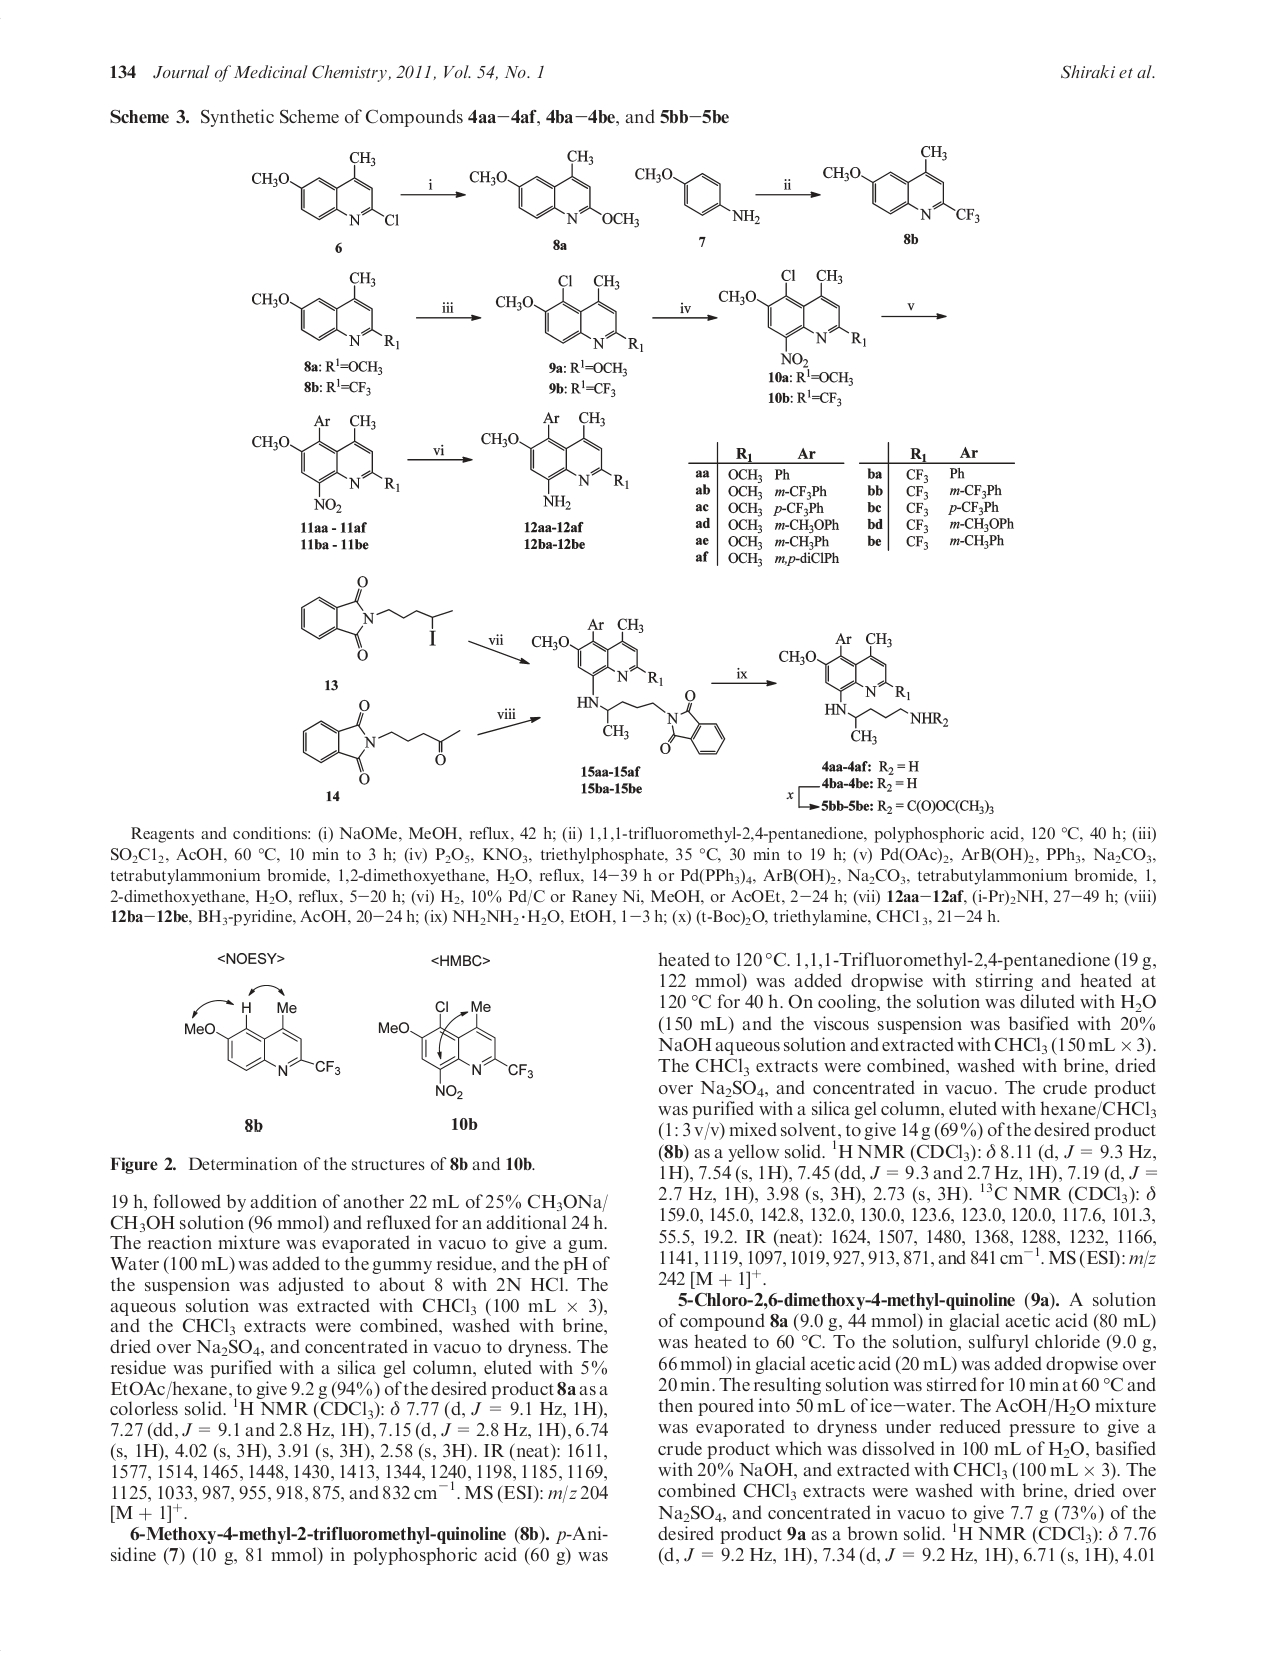exist_molecular: (529, 616, 727, 759), (777, 630, 953, 747), (378, 997, 535, 1102), (249, 410, 402, 513), (715, 266, 868, 368), (479, 410, 630, 509), (467, 148, 642, 233), (299, 698, 461, 786), (297, 572, 455, 661), (822, 144, 981, 227), (184, 1000, 344, 1081), (247, 270, 400, 355), (249, 148, 400, 233), (493, 271, 645, 354), (633, 162, 762, 230)
